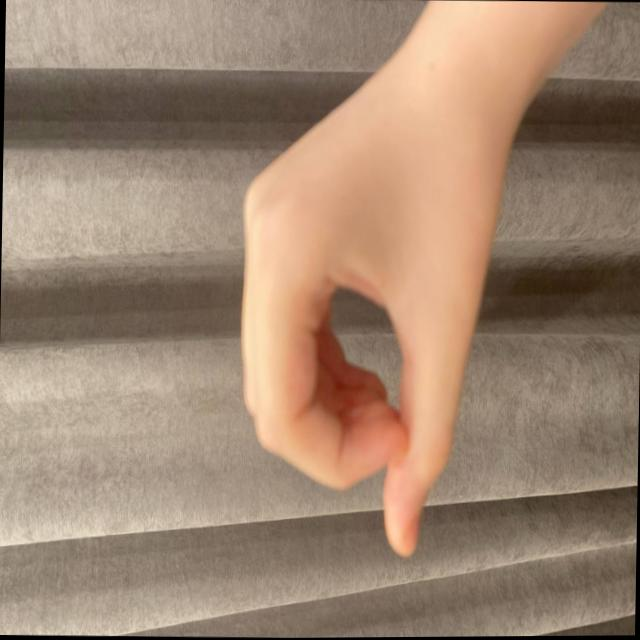e: (218, 139, 493, 560)
